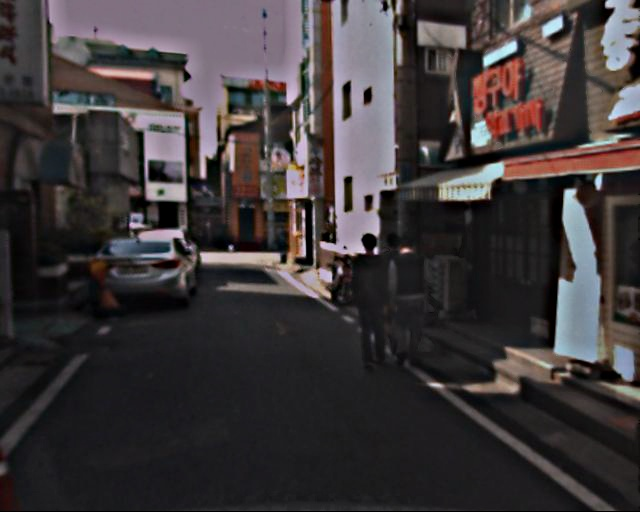person: (342, 233, 397, 368), (381, 232, 436, 365), (367, 232, 416, 352)
